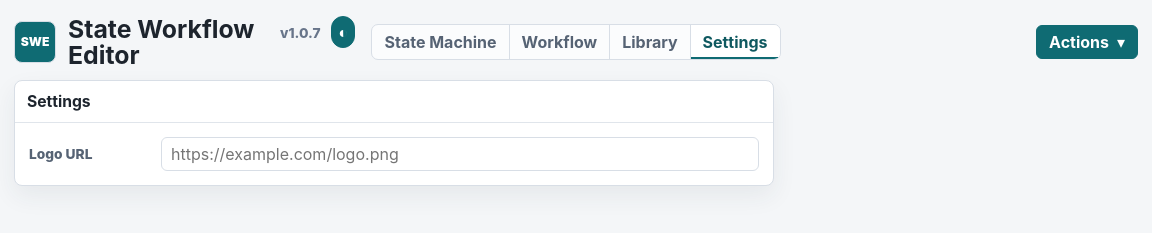
Test: App › shows the full global actions menu with expected enabled states
Click the button "Actions ▾": (1087, 42) [1036,25,1138,59]
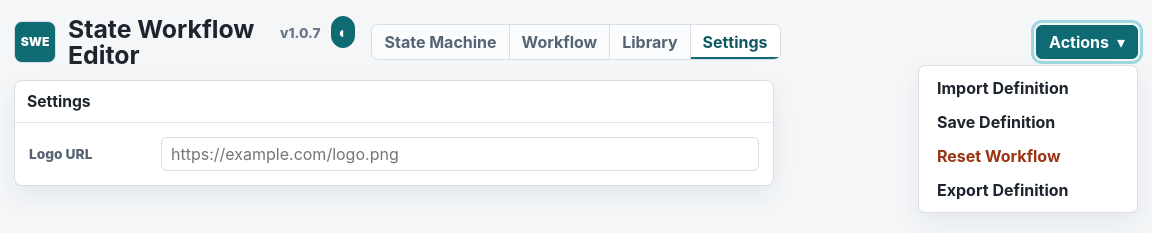
Expected: the menu items read "Import Definition", "Save Definition", "Reset Workflow", "Export Definition", in this order, [924,71,1132,105]; [924,105,1132,139]; [924,139,1132,173]; [924,173,1132,207]
Expected: the menu item "Save Definition" is enabled, [924,105,1132,139]
Expected: the menu item "Export Definition" is enabled, [924,173,1132,207]
